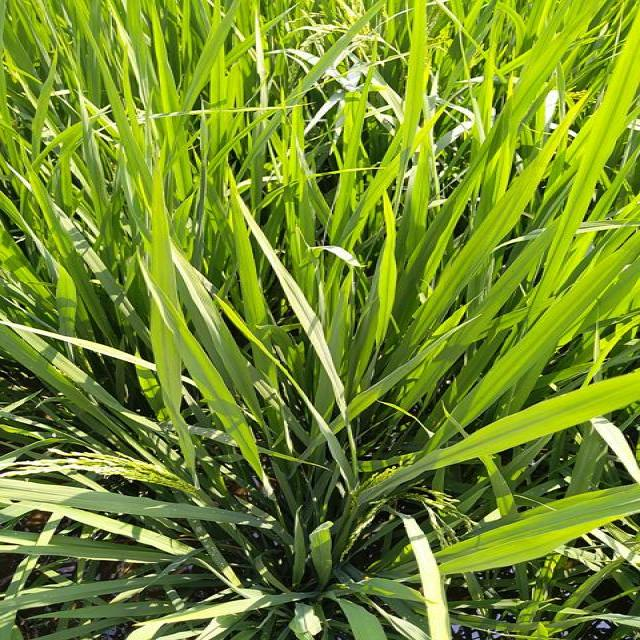Rice: (360, 368, 638, 495), (426, 229, 639, 366), (437, 483, 638, 581), (556, 15, 638, 226), (0, 481, 276, 531), (459, 128, 553, 232), (0, 577, 211, 621), (149, 156, 184, 412), (77, 90, 116, 260), (285, 116, 316, 312), (228, 178, 266, 324), (398, 134, 433, 255), (399, 4, 426, 150), (208, 27, 226, 167), (338, 591, 386, 640)
